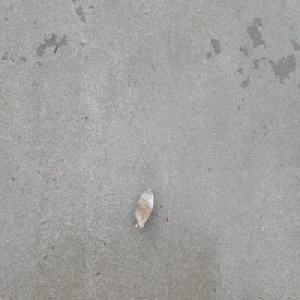Rock: (133, 186, 154, 231)
